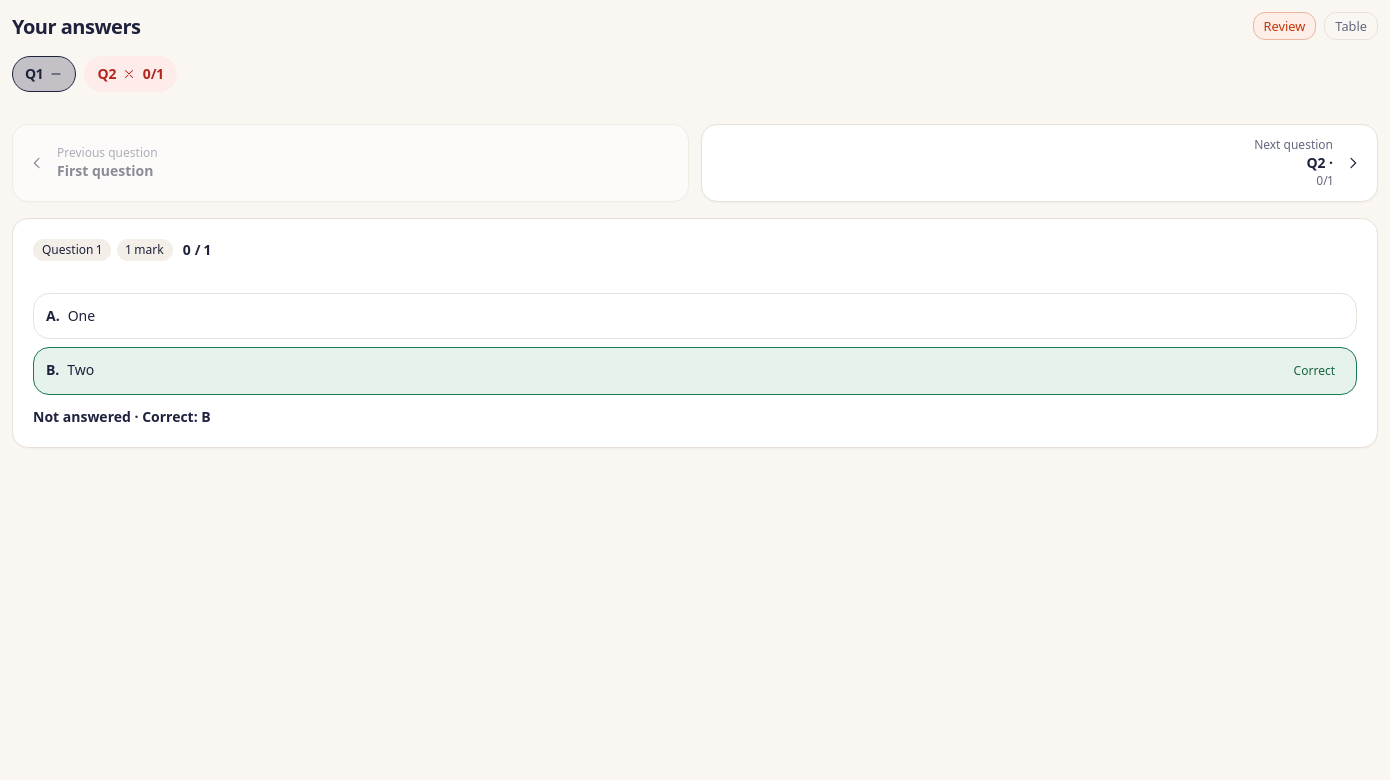
Scenario: keeps unanswered MC rows distinct from incorrect answers in sprint tiles and Table view
Check: the button named "Question 1, 0/1 marks, Not answered" reads "Q1", box left=12, top=56, right=76, bottom=92
Check: the 1st icon is shown, box left=49, top=67, right=63, bottom=81
Click the button with aria-label "Table view". click: (1351, 26)
box: left=1324, top=12, right=1378, bottom=40
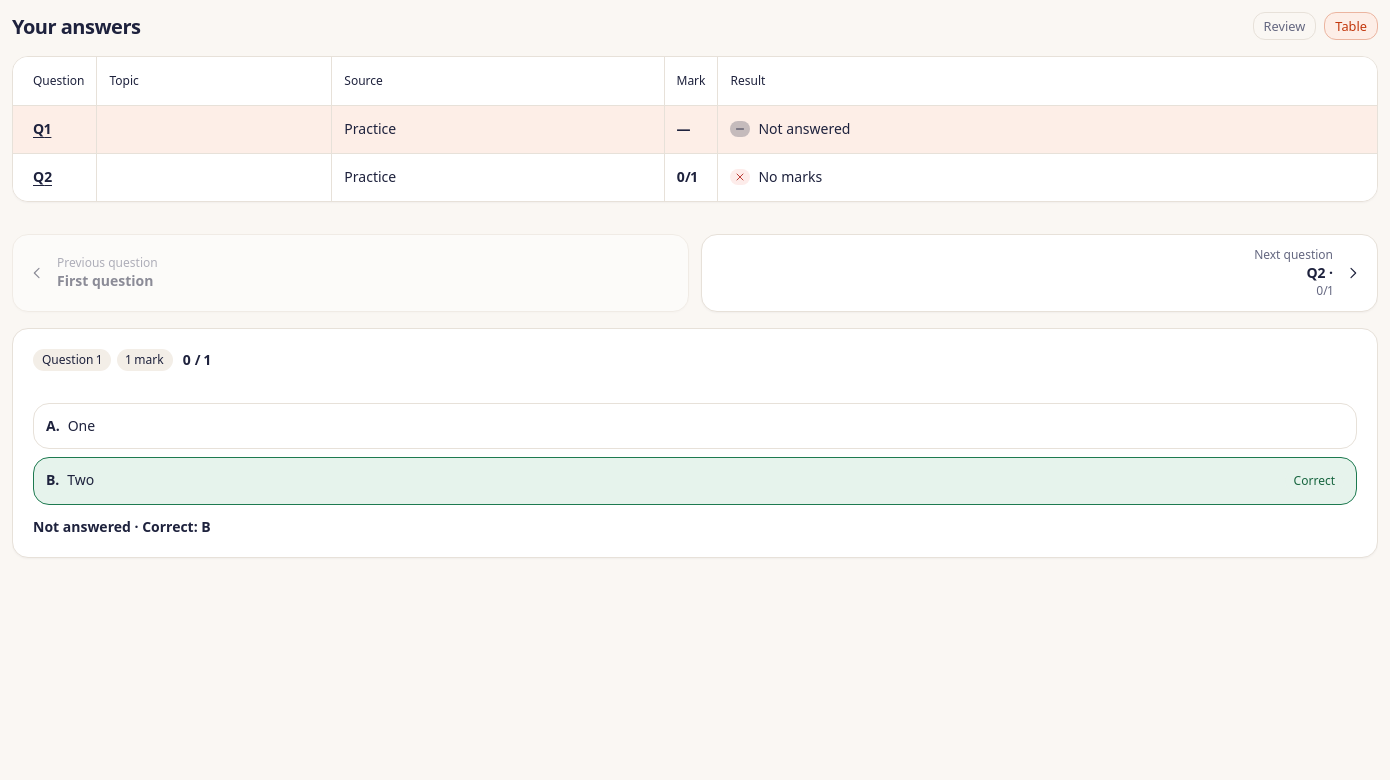
Check: the row "Q1 Practice — Not answered" does not show "No marks", box left=13, top=105, right=1377, bottom=153
Check: the row "Q1 Practice — Not answered" is shown, box left=13, top=105, right=1377, bottom=153
Check: the row "Q2 Practice 0/1 No marks" is shown, box left=13, top=153, right=1377, bottom=201
